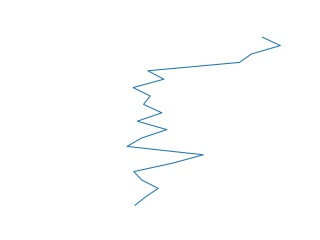crevasseRiverChannelBar: (119, 34, 286, 209)
